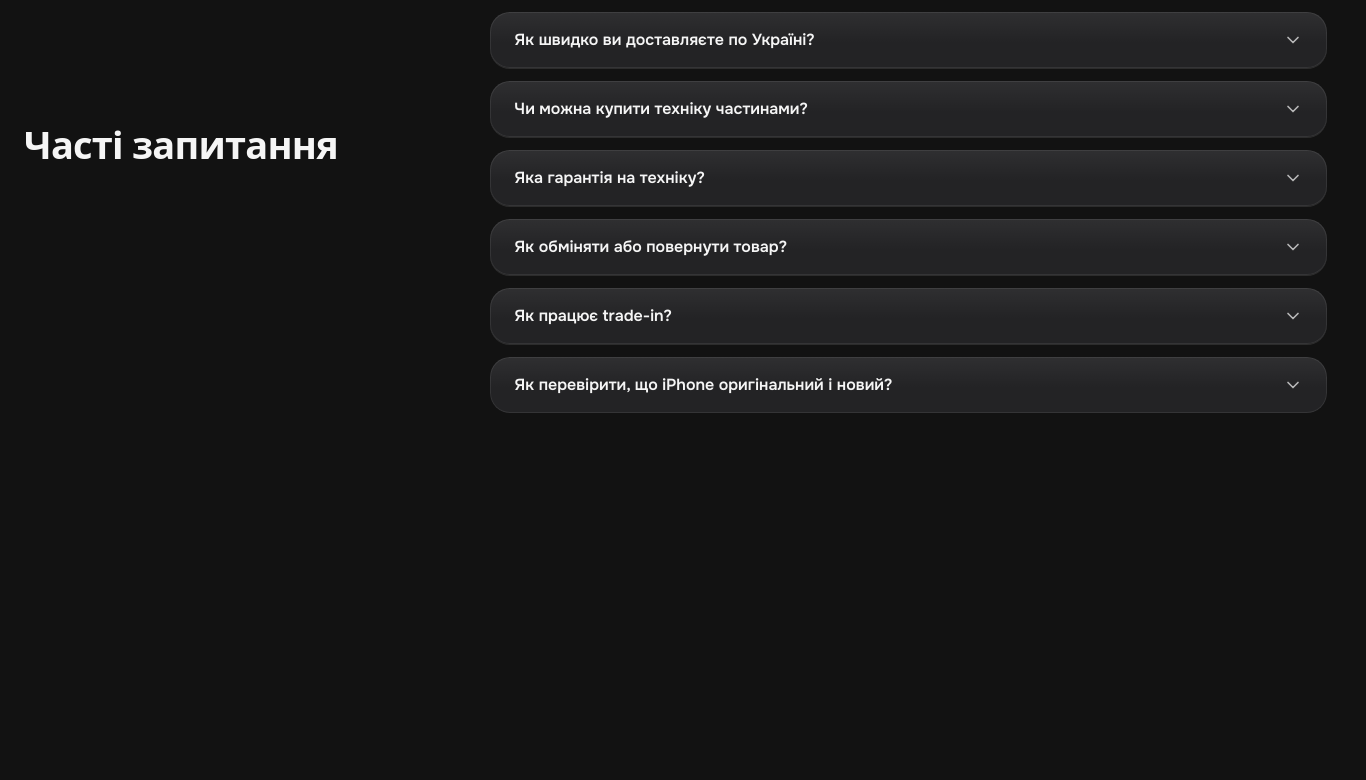
Scenario: Faq › клік відкриває відповідь, другий клік закриває; можна відкрити кілька одразу
What coordinates should you click on to do the following:
click the button "Як швидко ви доставляєте по Україні?"
I would click on:
 (665, 39)
Its box is [490,12,1327,68].
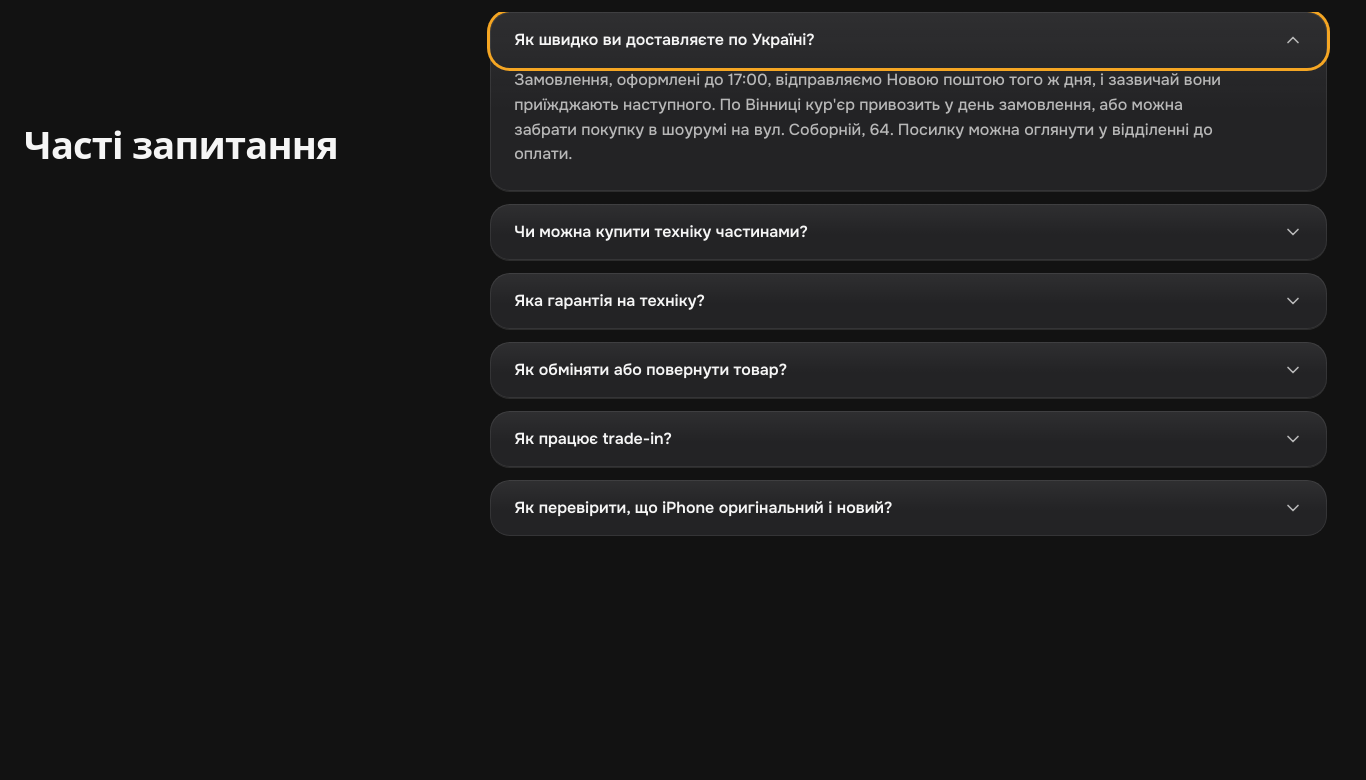
Now the button "Як швидко ви доставляєте по Україні?" is expanded, box [490,12,1327,68]
Now the element named "Як швидко ви доставляєте по Україні?" shows "Замовлення, оформлені до 17:00, відправляємо Новою поштою того ж дня, і зазвичай вони приїжджають наступного. По Вінниці кур'єр привозить у день замовлення, або", box [514,69,1221,164]
What coordinates should you click on to do the following:
click the button "Чи можна купити техніку частинами?"
I would click on:
 (661, 231)
Its box is [490,204,1327,260].
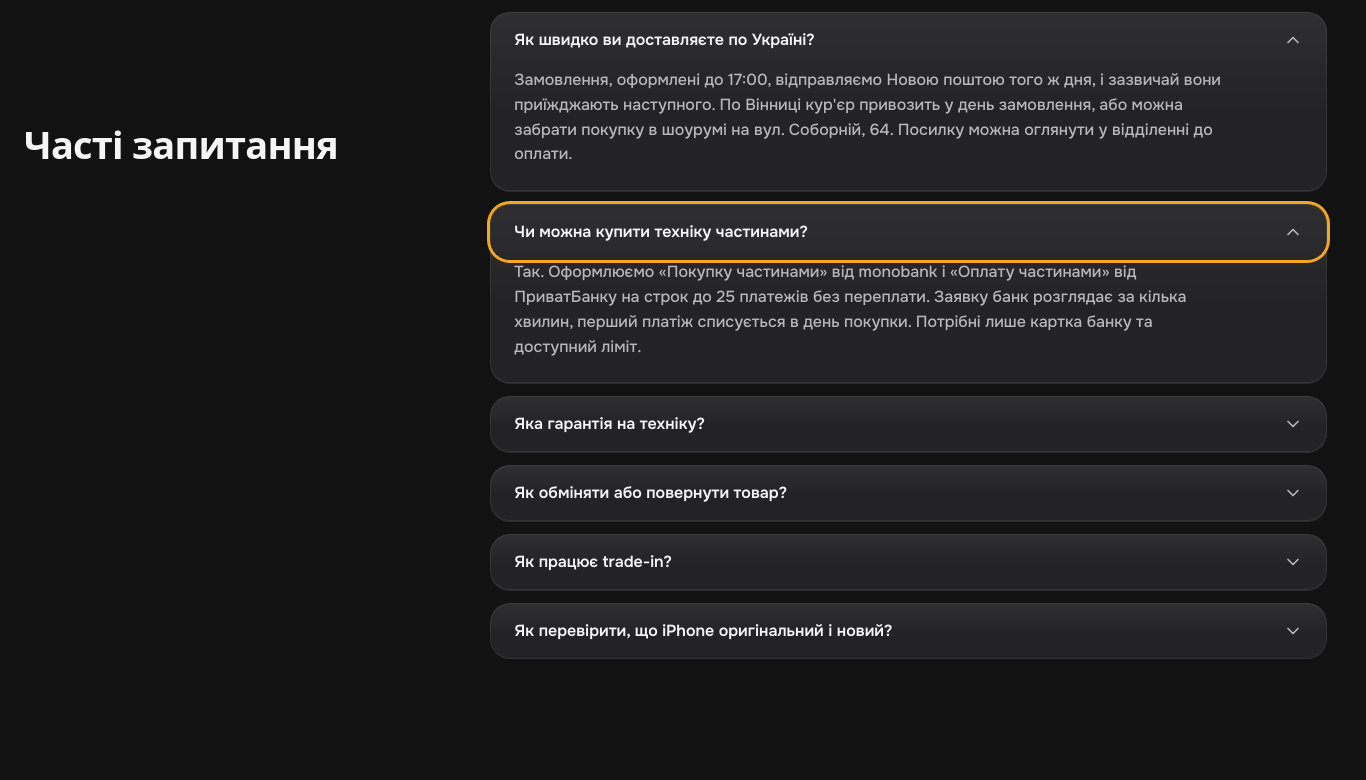
Now the button "Як швидко ви доставляєте по Україні?" is expanded
Now the button "Чи можна купити техніку частинами?" is expanded, box [490,204,1327,260]
What coordinates should you click on to do the following:
click the button "Як швидко ви доставляєте по Україні?"
I would click on:
 (665, 39)
Its box is [490,12,1327,68].
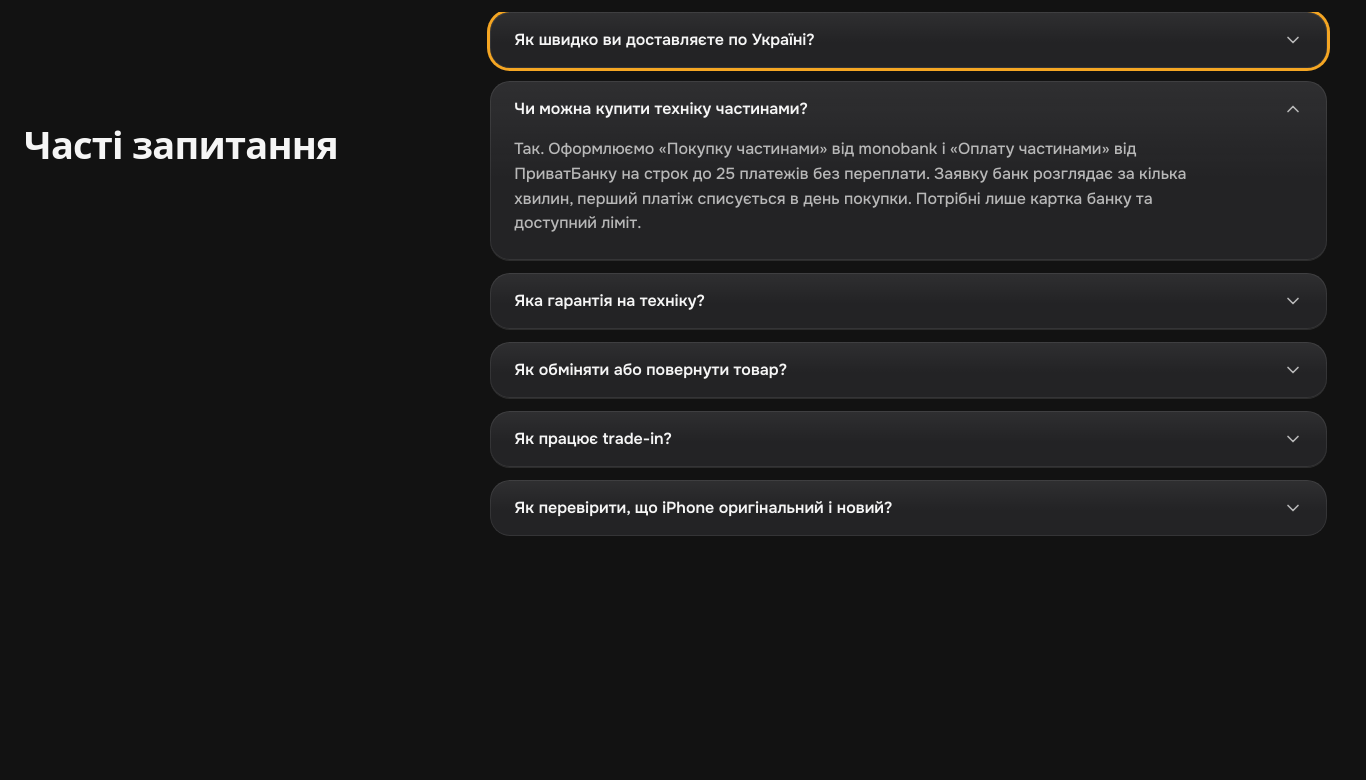
Now the button "Чи можна купити техніку частинами?" is expanded, box [490,81,1327,137]
Now the button "Як швидко ви доставляєте по Україні?" is collapsed, box [490,12,1327,68]
